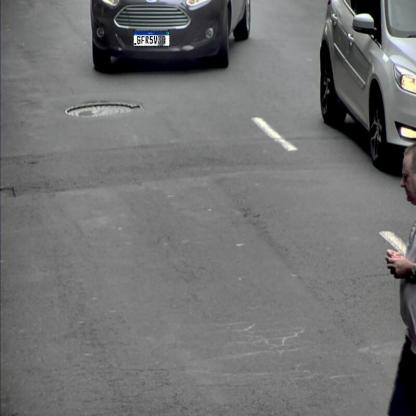PlacaM: (133, 30, 170, 46)
